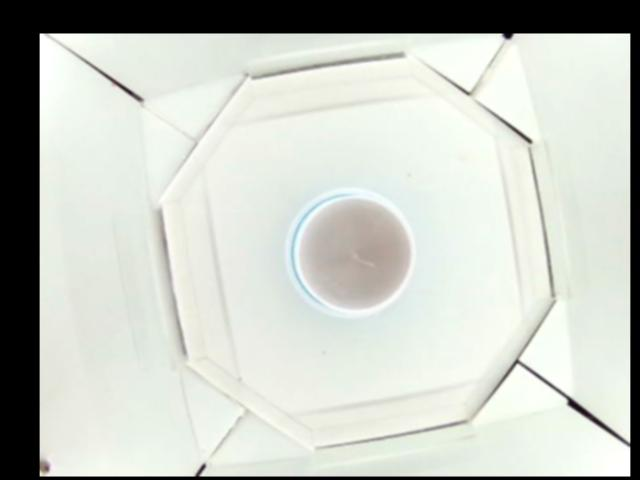Cup: (286, 185, 415, 314)
